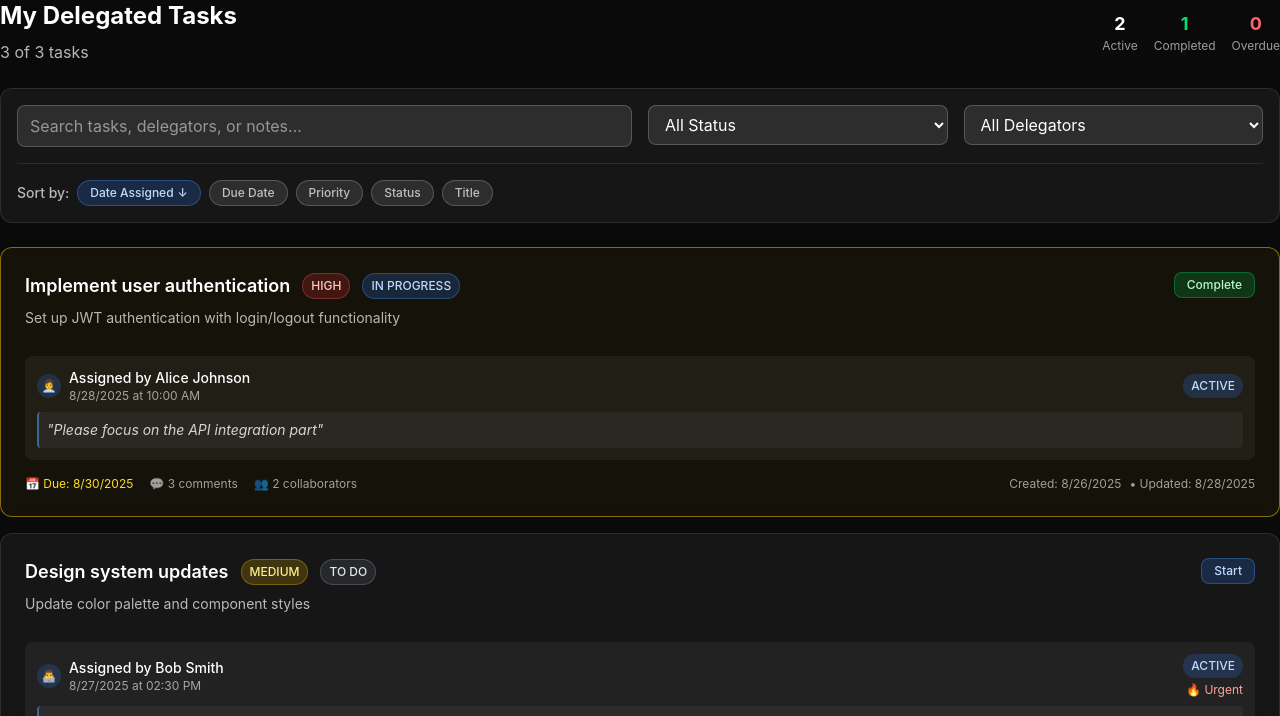
DelegatedTasksView › Filtering › filters tasks by search query
Type "authentication" into the field with placeholder "Search tasks, delegators, or notes...". click: (324, 126)
box: [17,105,632,147]
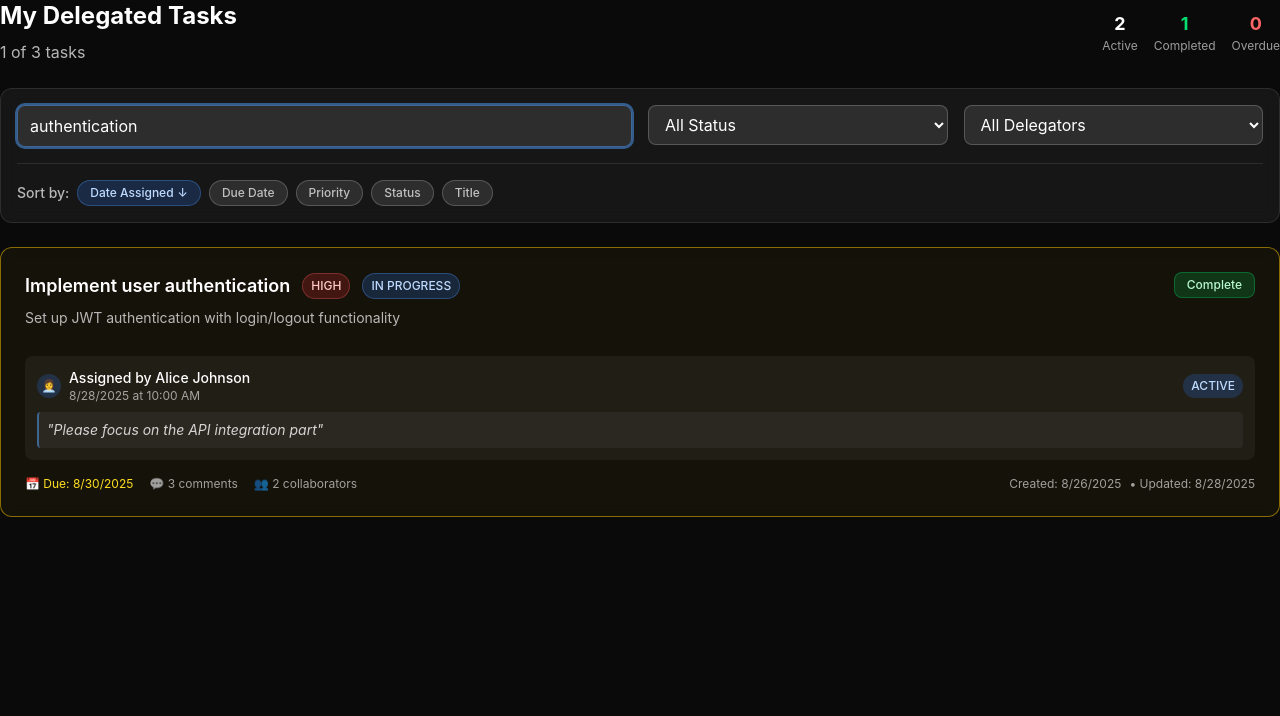
Expected: the heading "Implement user authentication" is shown, [25,272,290,300]
Expected: the heading "Design system updates" is gone
